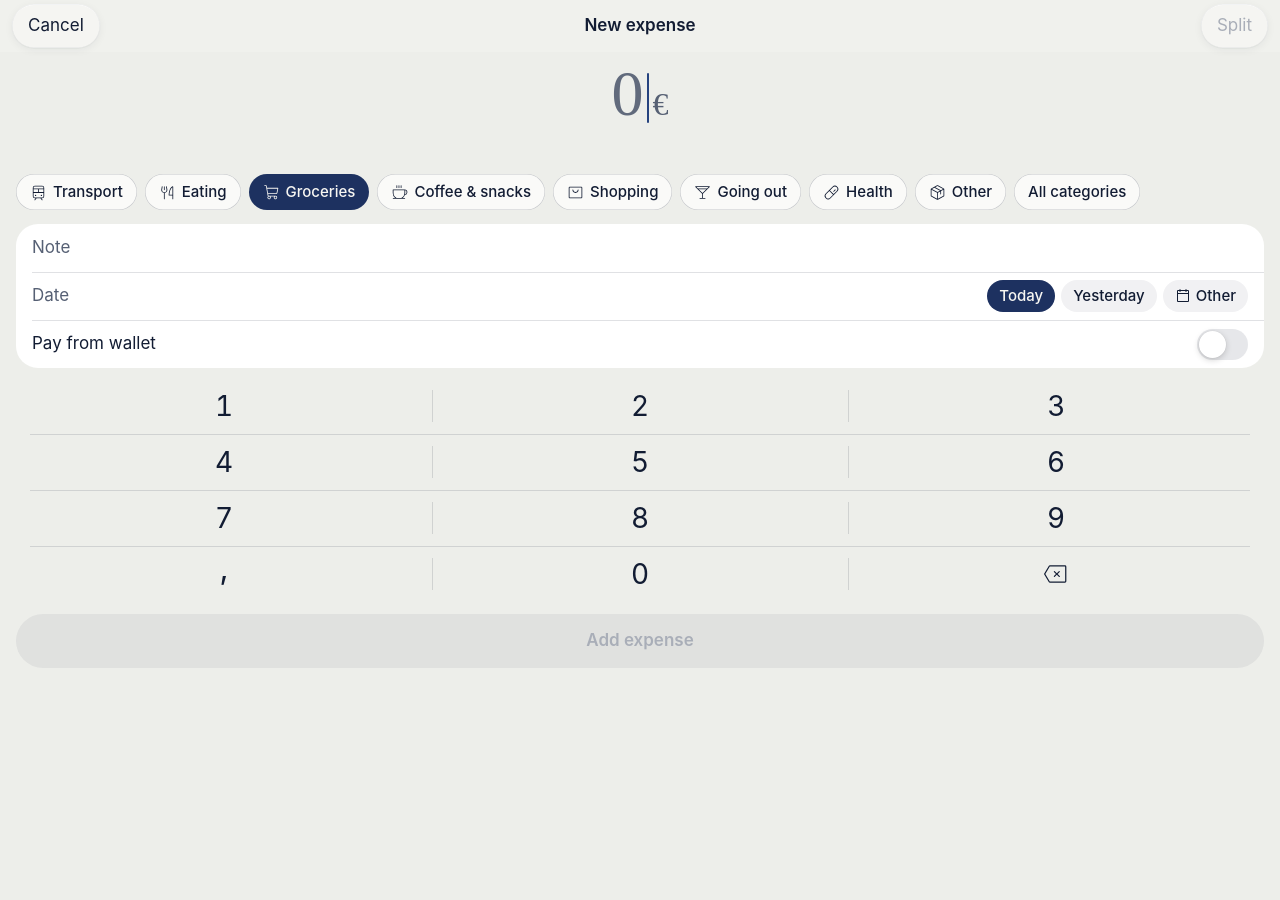
splitting the bill (§3.16, EXTRAS.md §2.1 to §2.4) › stops saving while others owe more than the bill
The width and height of the screenshot is (1280, 900).
Click the button with test id "keypad-1": (224, 406) [16,378,432,434]
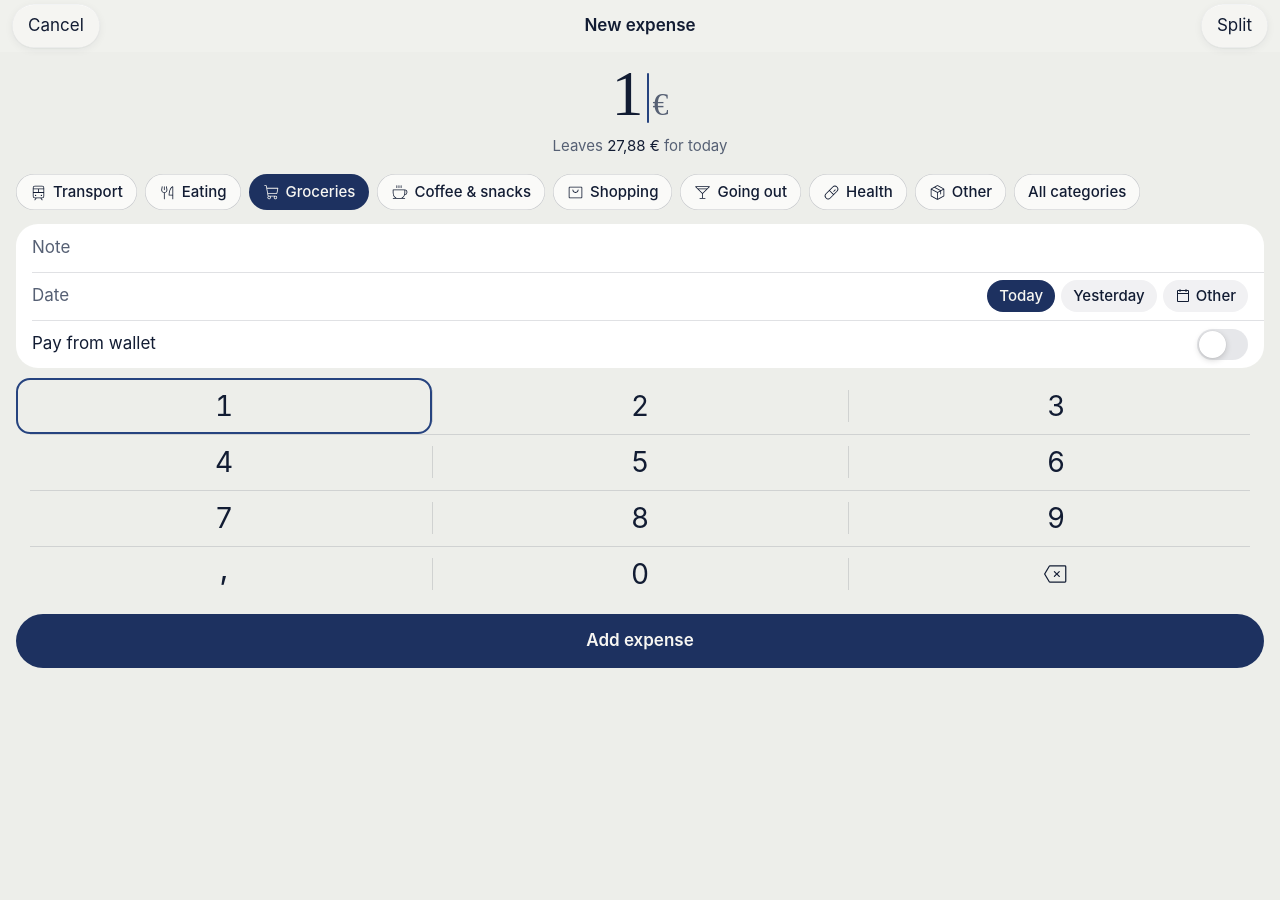
Click the button "8": (640, 518) [432,490,848,546]
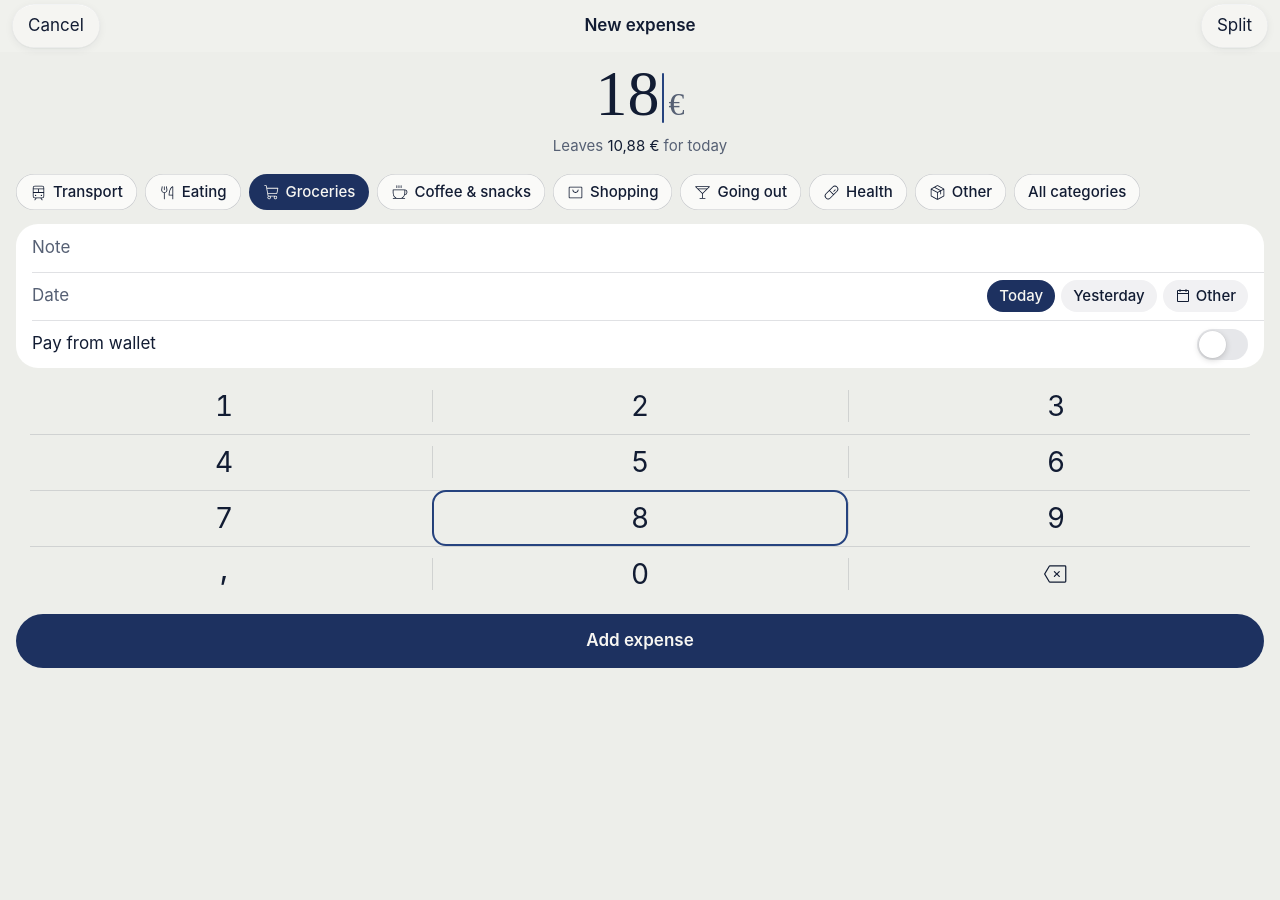
Click the button with test id "split-toggle": (1234, 26) [1201,4,1268,48]
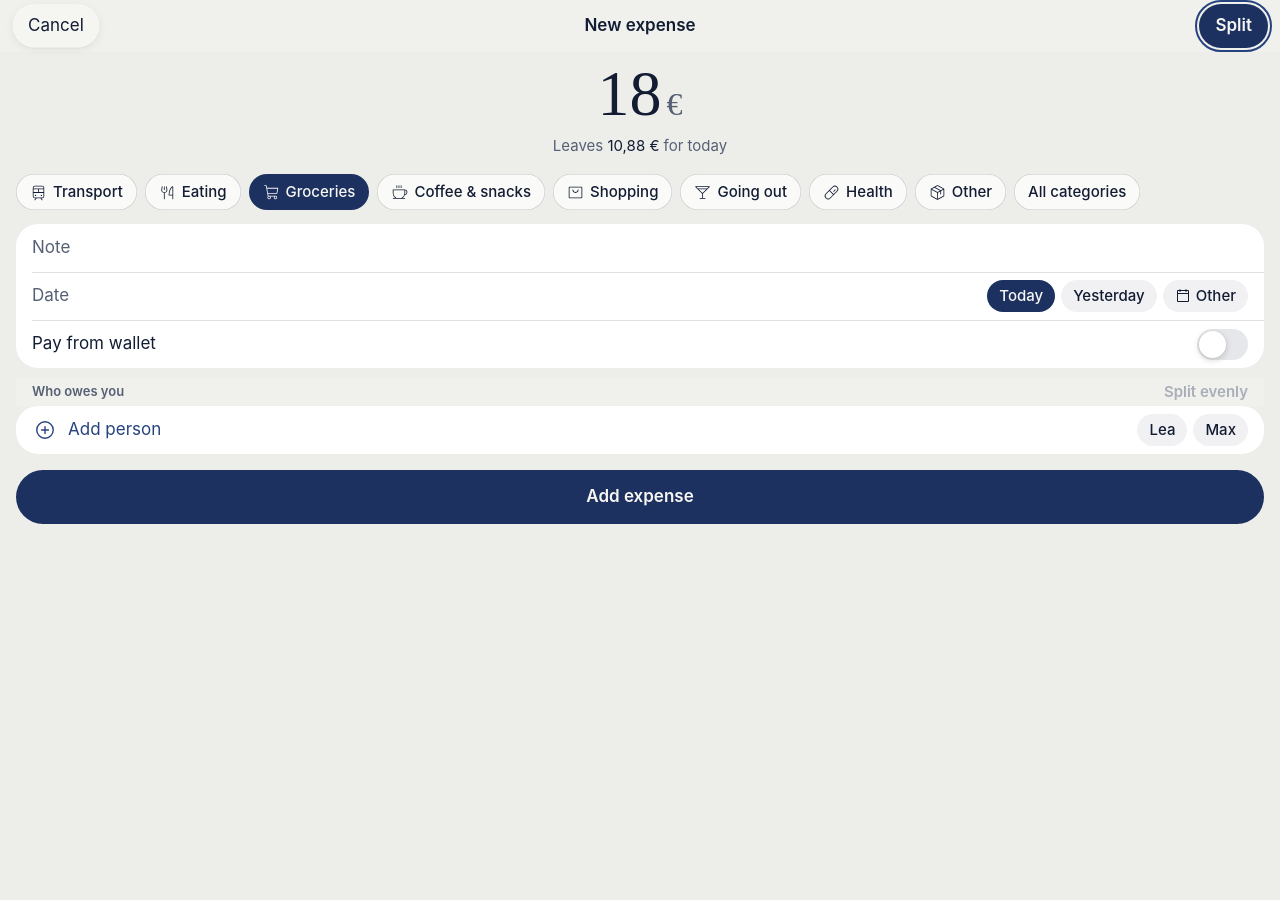
Click the button with aria-label "Add Lea": (1162, 430) [1138,414,1188,446]
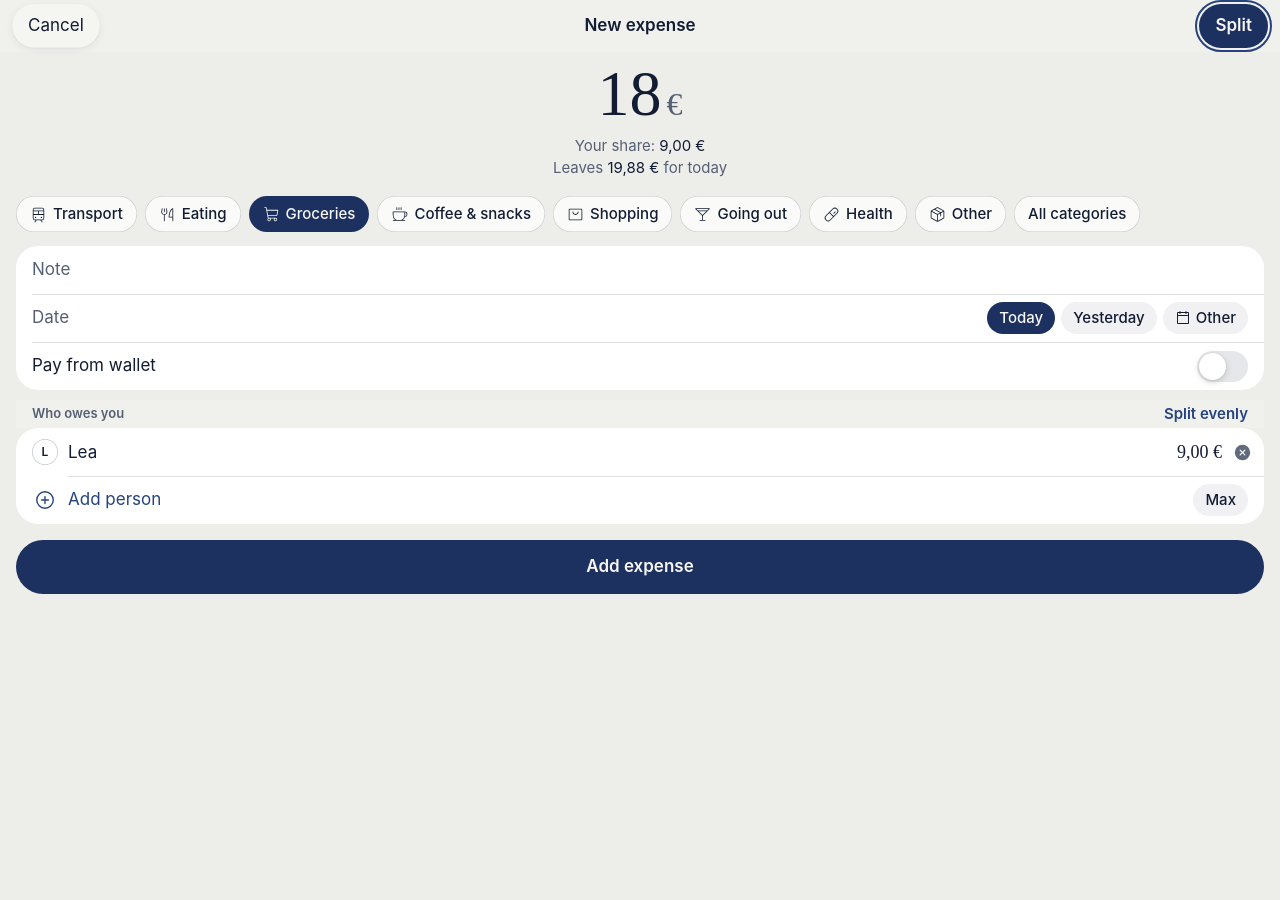
Replace the text in the field named "Lea owes" with "20": (1167, 452) [1112,430,1222,474]
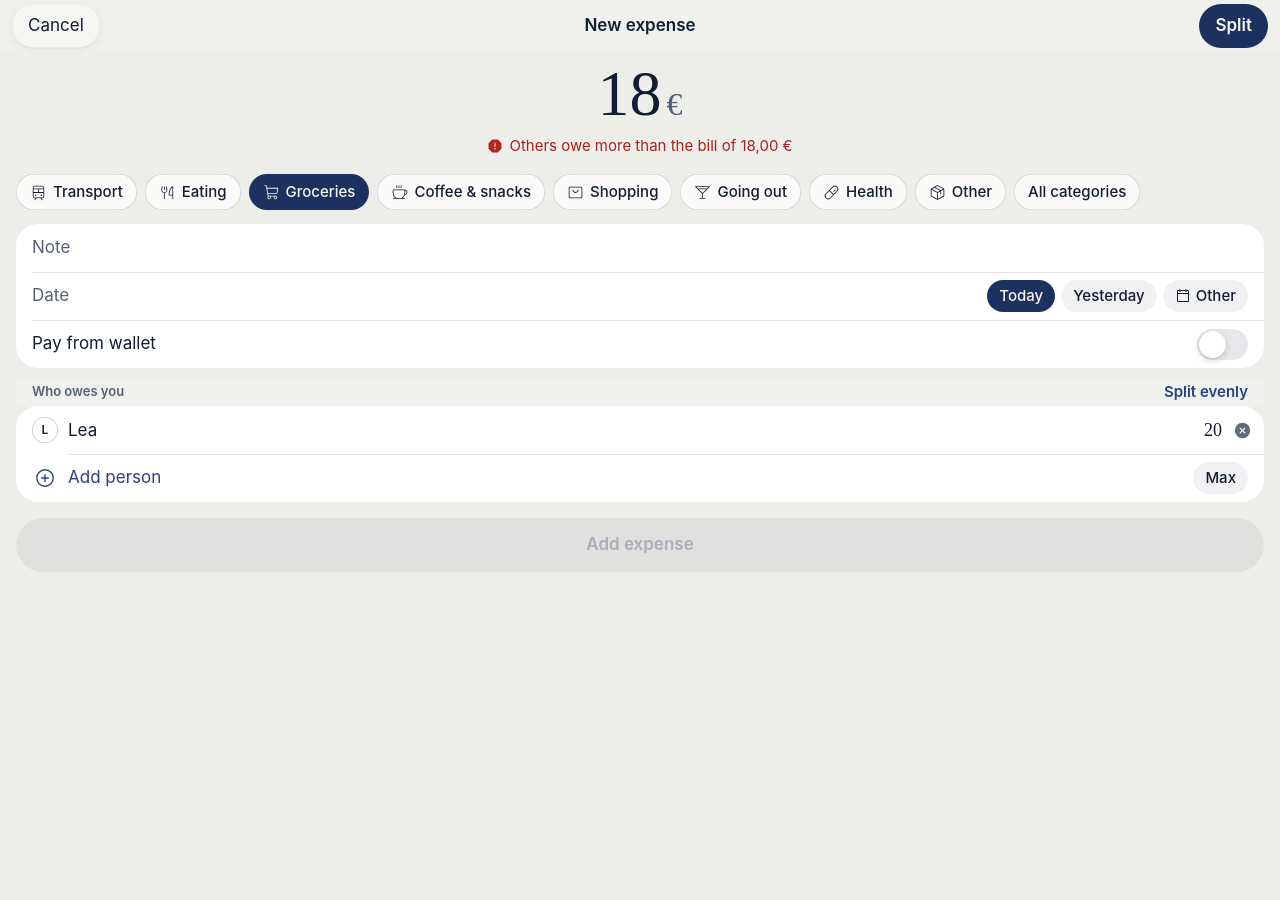
Now the element with test id "split-share" reads "Others owe more than the bill of 18,00 €", box [509,136,793,155]
Now the button with test id "sheet-save" is disabled, box [16,518,1264,572]
Click the button named "Remove Lea": (1242, 430) [1220,408,1264,452]
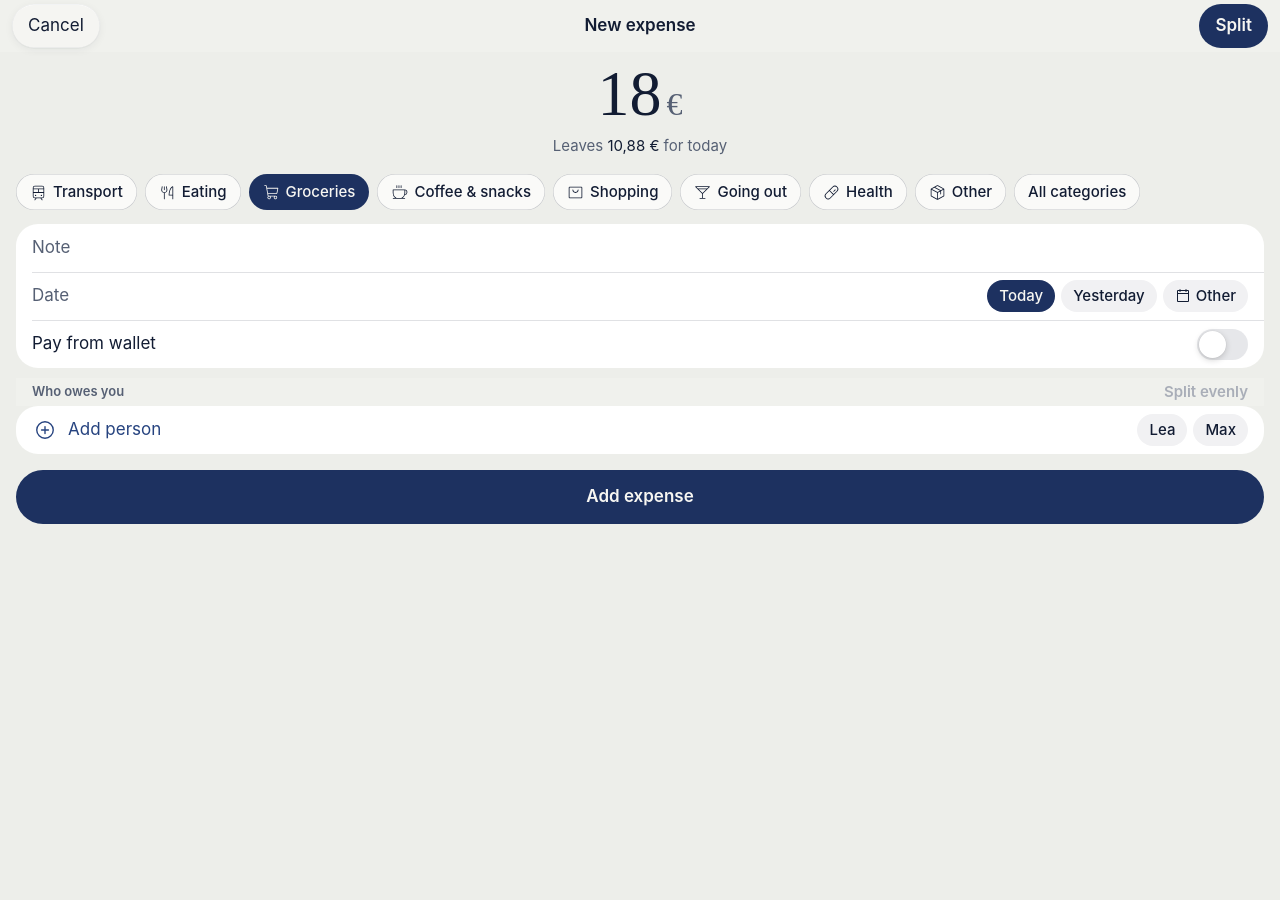
Now the element with test id "split-share" is gone
Now the button with test id "sheet-save" is enabled, box [16,470,1264,524]
